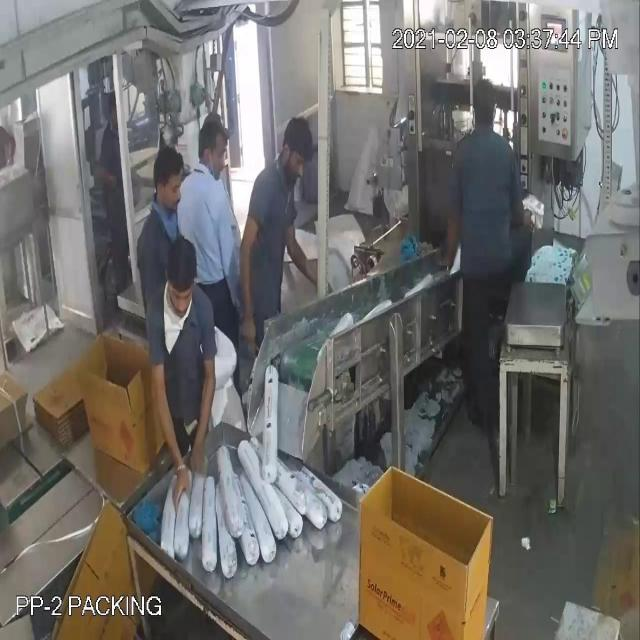No_Gloves: (24, 90, 301, 425)
